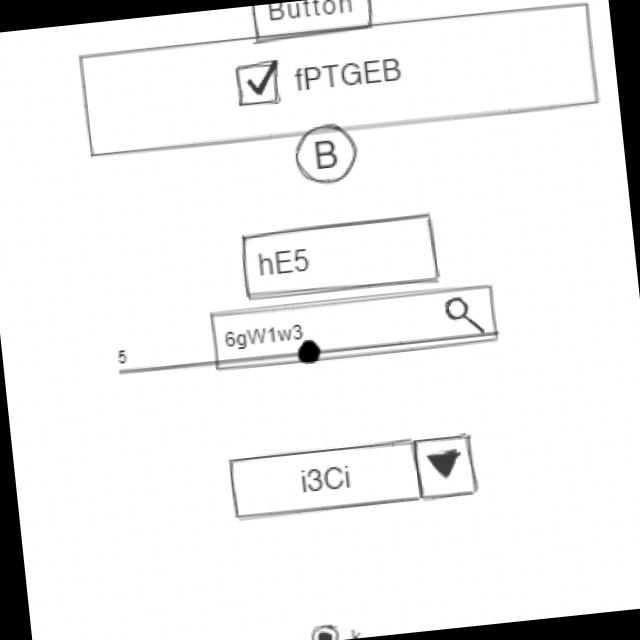button: (248, 1, 380, 46)
checkbox: (231, 44, 411, 110)
container: (74, 1, 604, 163)
icon-button: (292, 120, 363, 190)
input: (238, 211, 445, 304)
radio: (305, 615, 372, 640)
search: (208, 281, 502, 377)
select: (223, 430, 484, 527)
slider: (134, 317, 505, 387)
